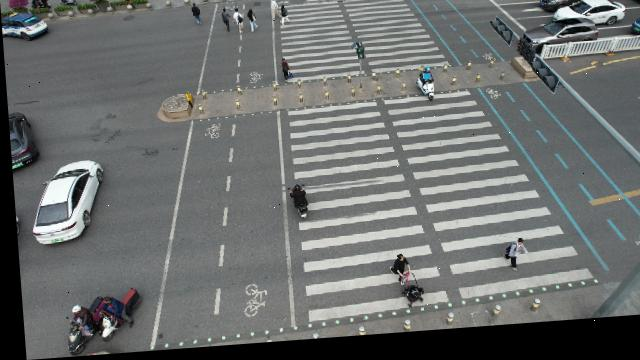non-motor-vehicle: (97, 292, 134, 338), (62, 301, 92, 346), (280, 185, 310, 230), (413, 74, 437, 110)
person: (381, 255, 423, 318), (498, 242, 528, 284), (244, 12, 260, 37), (277, 61, 291, 87), (233, 8, 244, 40), (267, 0, 280, 26), (189, 5, 202, 30), (277, 8, 291, 31), (222, 10, 230, 36), (332, 0, 342, 0)
